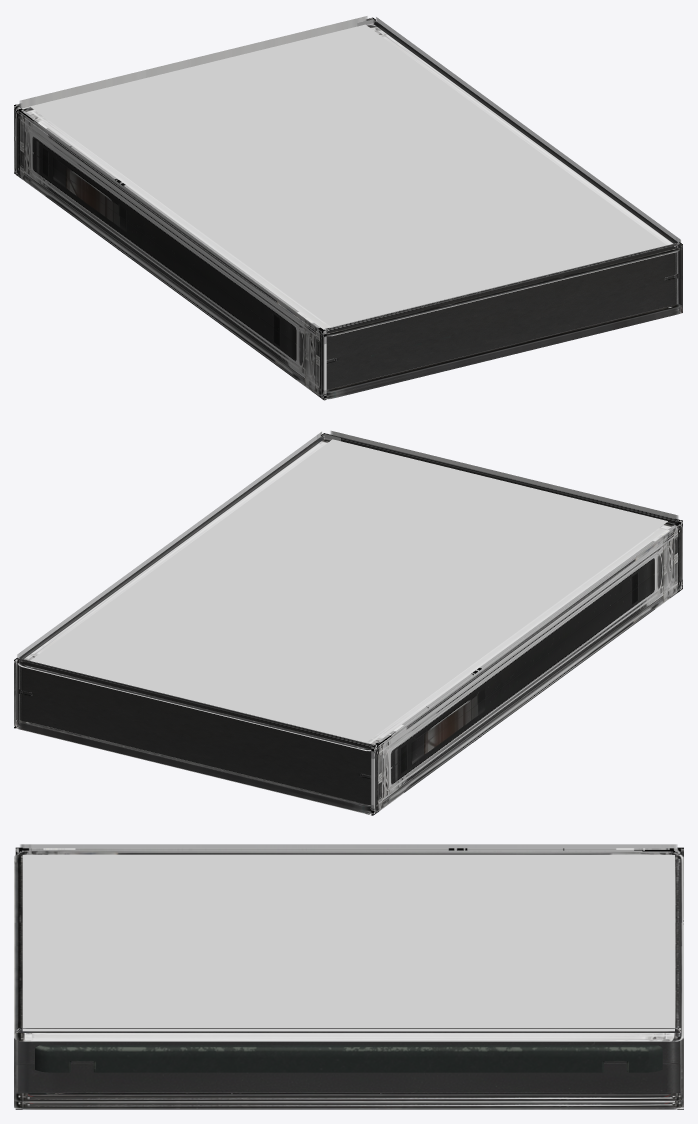
File: Case.glb
3 views of the same model, one above another, from view 1: azimuth 30°, elevation 25°; view 2: azimuth 150°, elevation 25°; view 3: azimuth 270°, elevation 25° (orthographic). The views are drawn at different scales.
Visible parts, largest first — view 1: Album cover front, right side, top, front frame, back frame, left side; view 2: Album cover front, bottom, right side, front frame, back frame, left side, top; view 3: Album cover front, left side, tape.001, front frame, back frame, right side, Album cover back.
Boxes of the visible parts, x1,y1,x2,y2 form: Album cover front: (30, 24, 666, 327); right side: (15, 106, 326, 400); top: (321, 242, 682, 400); front frame: (18, 16, 680, 336); back frame: (20, 171, 681, 398); left side: (357, 19, 682, 312); Album cover front: (30, 439, 667, 742); bottom: (14, 658, 375, 815); right side: (371, 521, 682, 814); front frame: (17, 431, 679, 751); back frame: (16, 586, 678, 813); left side: (16, 434, 340, 726); top: (321, 433, 682, 590); Album cover front: (22, 855, 674, 1031); left side: (16, 1028, 681, 1109); tape.001: (35, 1045, 662, 1072); front frame: (14, 844, 683, 1041); back frame: (14, 1038, 683, 1108); right side: (16, 848, 681, 854); Album cover back: (23, 1101, 674, 1102).
Size of the model in its own units: 2 by 0.3824 by 3.
Materials: 6 (6 with a texture image).
